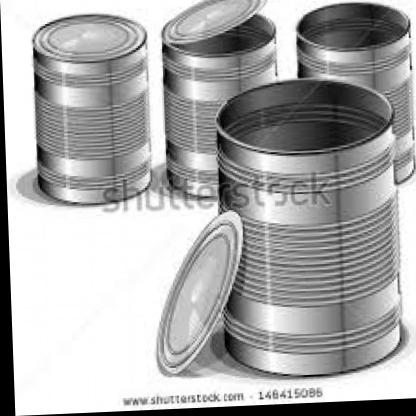Metal: (8, 0, 416, 393)
